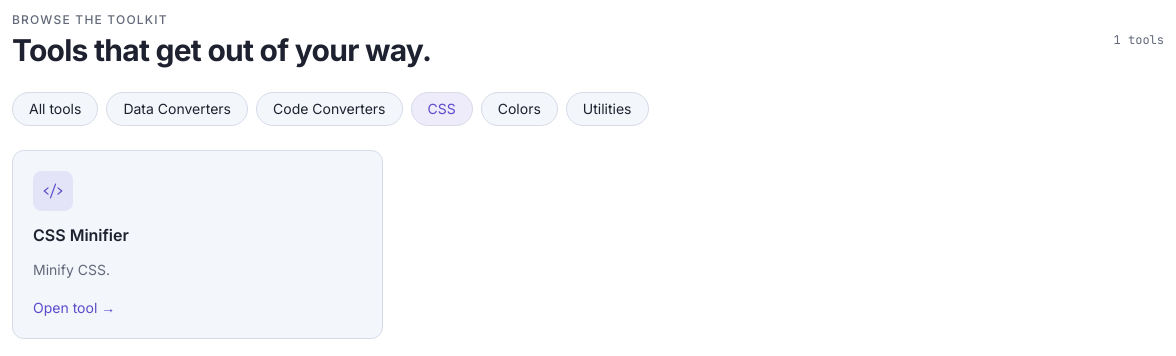
it: <ToolsFilter /> › interaction › clicking all tools resets filter
Click the button with test id "filter-pill-all-tools". click: [55, 109]
box: [12, 92, 98, 126]
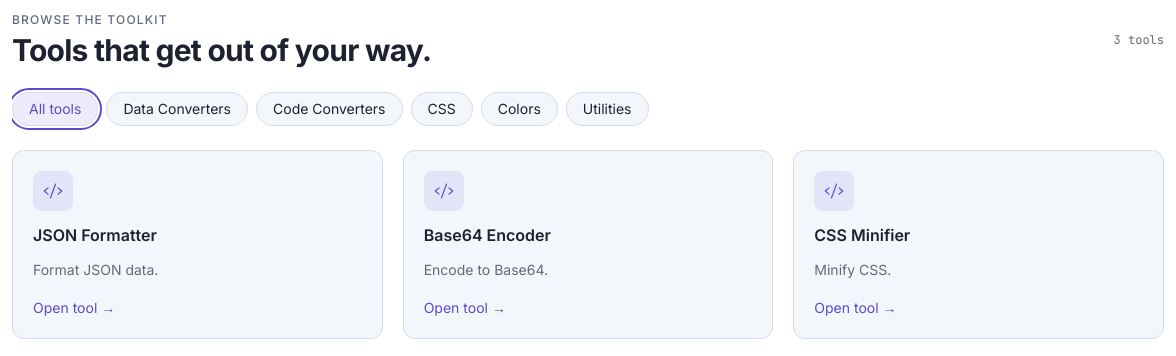
Expected: the link with test id "tool-card--css" is shown, [793, 150, 1164, 339]
Result: the link with test id "tool-card--json" is shown at [12, 150, 383, 339]
Result: the text with test id "tools-count" reads "3 tools" at [1114, 32, 1164, 48]
